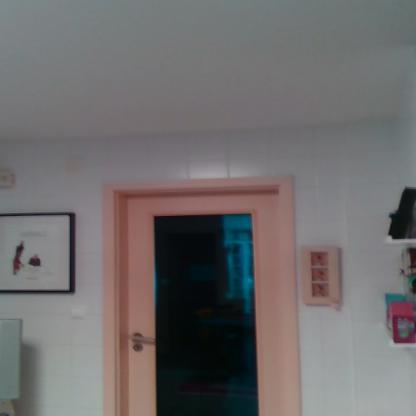door: (123, 196, 283, 416)
lever: (127, 334, 157, 346)
